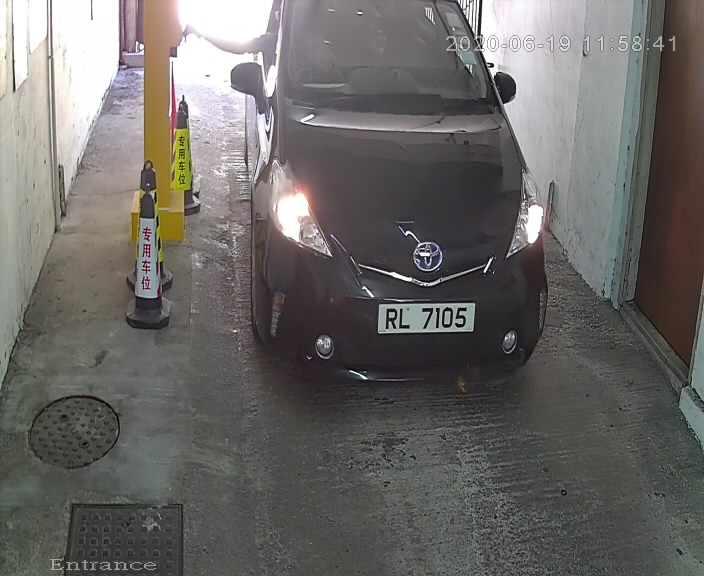privatecar: (226, 3, 553, 410)
